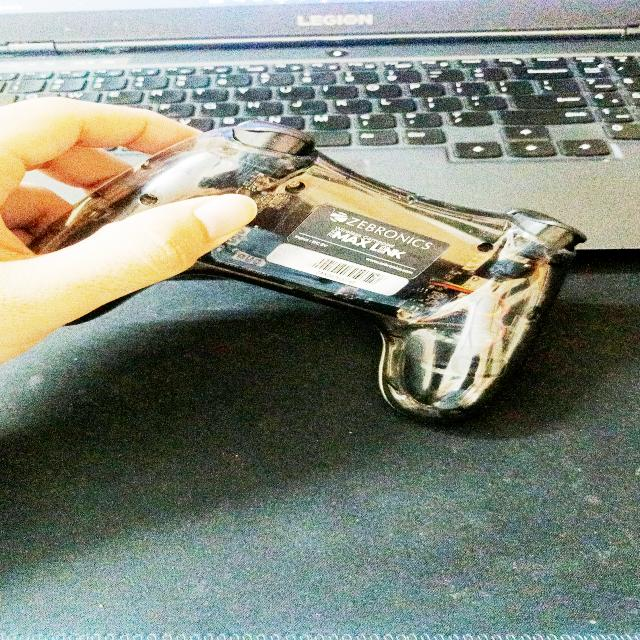gamepad: (29, 120, 587, 423)
